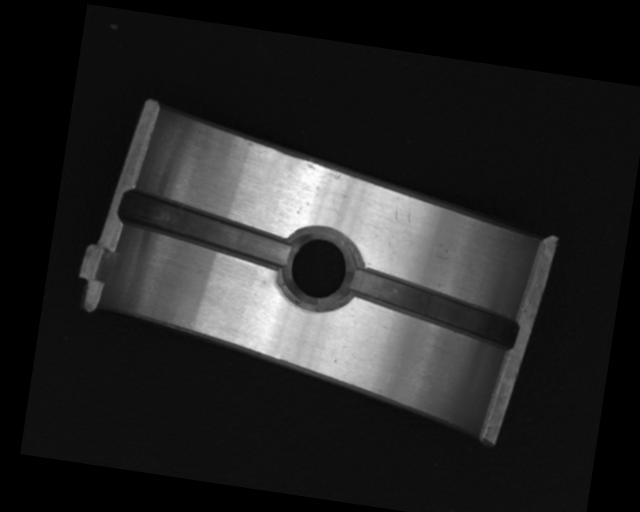gap: (343, 264, 522, 350), (115, 188, 297, 271)
hole: (280, 223, 362, 311)
